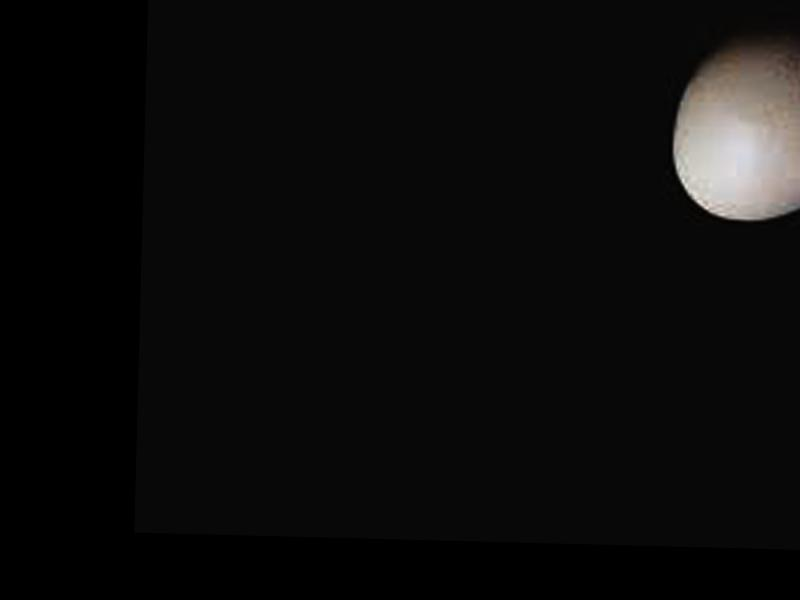Eggs: (671, 23, 800, 226)
